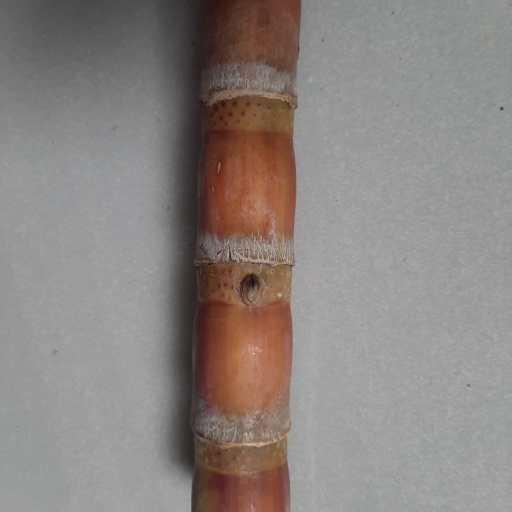Bud: (239, 273, 260, 308)
